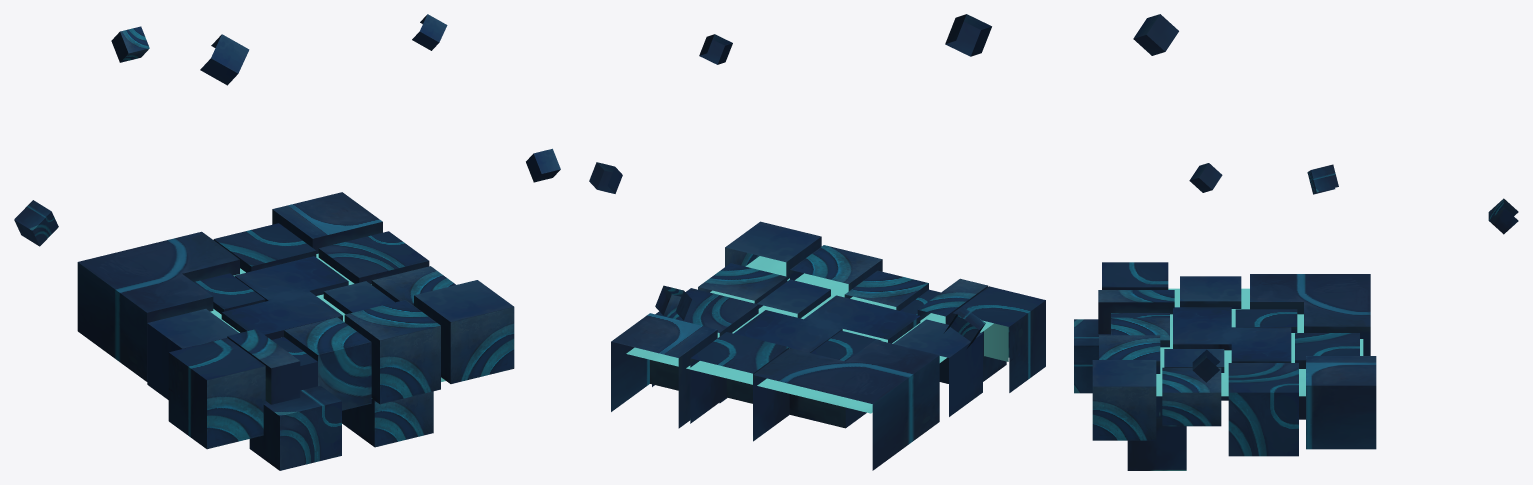
The model's file is gonghui_ditai.FBX.
3 renders of one model, left to right at view 1: azimuth 30°, elevation 25°; view 2: azimuth 150°, elevation 25°; view 3: azimuth 270°, elevation 25°, orthographic. The views are drawn at different scales.
Parts seen in each view (by area): view 1: gonghuiditai@moxing, Object007, Object006, Object010, Object009, Object008, Object001, Object005, Object004, Object003, Object002; view 2: gonghuiditai@moxing, Object007, Object006, Object010, Object008, Object001, Object004, Object003, Object005, Object002; view 3: gonghuiditai@moxing, Object006, Object008, Object007, Object010, Object009, Object001, Object004, Object005, Object002, Object003.
Boxes of the visible parts, x1,y1,x2,y2 form: gonghuiditai@moxing: [77, 192, 455, 447]; Object007: [168, 338, 265, 449]; Object006: [414, 280, 514, 383]; Object010: [344, 300, 440, 404]; Object009: [249, 385, 341, 470]; Object008: [227, 329, 300, 404]; Object001: [200, 34, 249, 85]; Object005: [14, 200, 58, 246]; Object004: [111, 26, 149, 62]; Object003: [526, 148, 560, 182]; Object002: [412, 14, 447, 50]; gonghuiditai@moxing: [611, 256, 1008, 470]; Object007: [952, 286, 1045, 392]; Object006: [725, 221, 821, 279]; Object010: [790, 245, 882, 291]; Object008: [917, 278, 988, 324]; Object001: [945, 14, 991, 56]; Object004: [655, 285, 691, 320]; Object003: [589, 162, 622, 193]; Object005: [944, 307, 985, 348]; Object002: [699, 34, 732, 64]; gonghuiditai@moxing: [1111, 274, 1376, 470]; Object006: [1092, 360, 1156, 440]; Object008: [1098, 290, 1174, 333]; Object007: [1102, 262, 1168, 289]; Object010: [1099, 335, 1160, 416]; Object009: [1074, 319, 1110, 393]; Object001: [1133, 14, 1178, 55]; Object004: [1488, 198, 1518, 234]; Object005: [1307, 164, 1338, 194]; Object002: [1189, 163, 1222, 192]; Object003: [1192, 349, 1219, 382].
Bounding box in the file's own units: 259 × 229 × 246.
